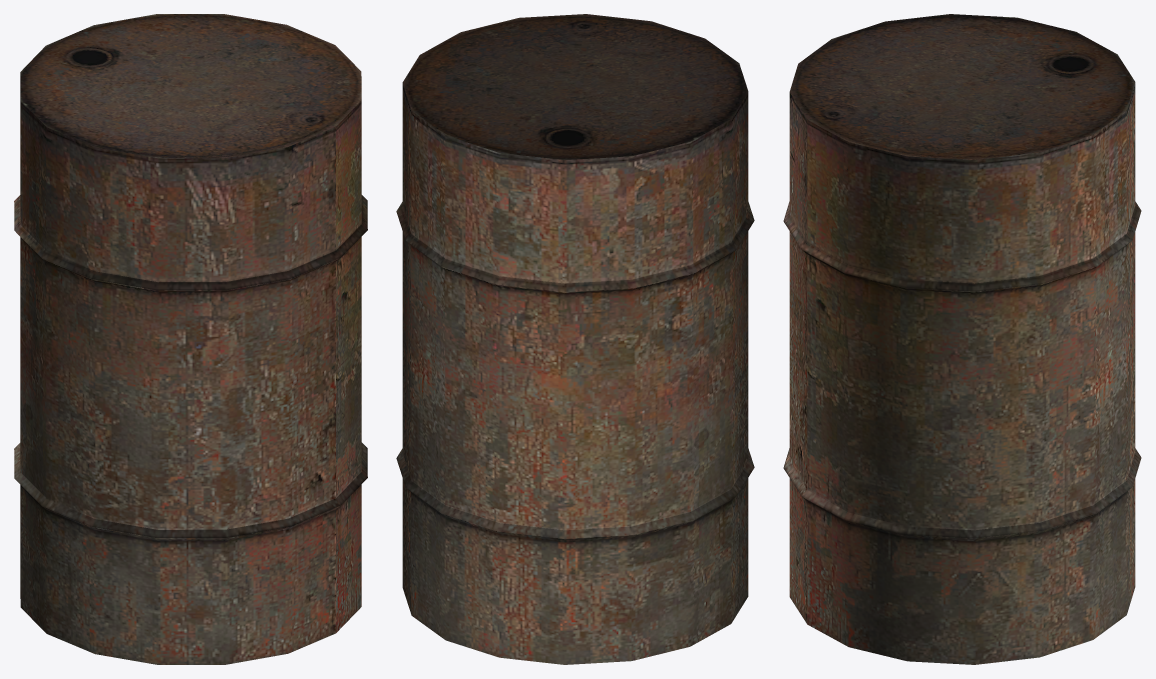
The model's file is red_barrel.fbx.
3 views of the same model, side by side, from view 1: azimuth 30°, elevation 25°; view 2: azimuth 150°, elevation 25°; view 3: azimuth 270°, elevation 25° (orthographic).
Parts seen in each view (by area): view 1: red_barrel.001; view 2: red_barrel.001; view 3: red_barrel.001.
Part boxes in pixels (x1,y1,x2,y2): red_barrel.001: [14, 14, 367, 664]; red_barrel.001: [396, 14, 754, 664]; red_barrel.001: [783, 14, 1141, 664].
Size of the model in its own units: 0.7376 by 1.15 by 0.7376.
1 material, 1 textured.
